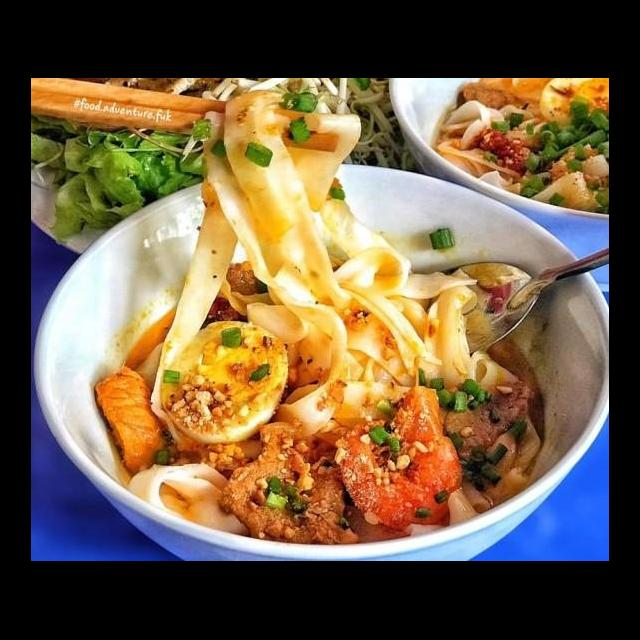ca: (90, 362, 170, 478)
mi: (197, 86, 521, 442), (122, 458, 257, 540), (432, 100, 544, 196)
thit heo: (215, 418, 360, 546), (440, 358, 540, 462)
tom: (326, 381, 465, 538)
trung: (156, 318, 292, 451)
